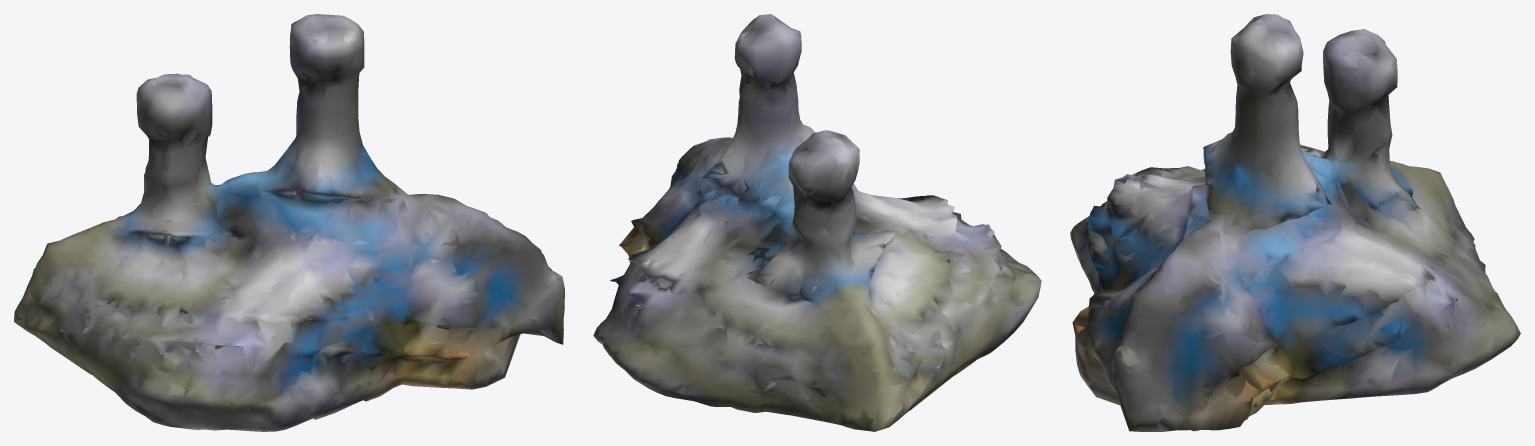
File: allied_refinery.glb
3 views of the same model, side by side, from view 1: azimuth 30°, elevation 25°; view 2: azimuth 150°, elevation 25°; view 3: azimuth 270°, elevation 25° (orthographic). The views are drawn at different scales.
Parts seen in each view (by area): view 1: allied_refinery; view 2: allied_refinery; view 3: allied_refinery.
Part boxes in pixels (box(x1,y1,x2,y2)): allied_refinery: box(14, 14, 564, 431); allied_refinery: box(593, 14, 1041, 431); allied_refinery: box(1070, 14, 1520, 431).
Bounding box in the file's own units: 1.86 × 1.43 × 1.76.
